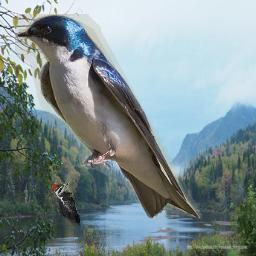Swallow: (15, 14, 202, 222)
Woodpecker: (51, 182, 80, 226)
